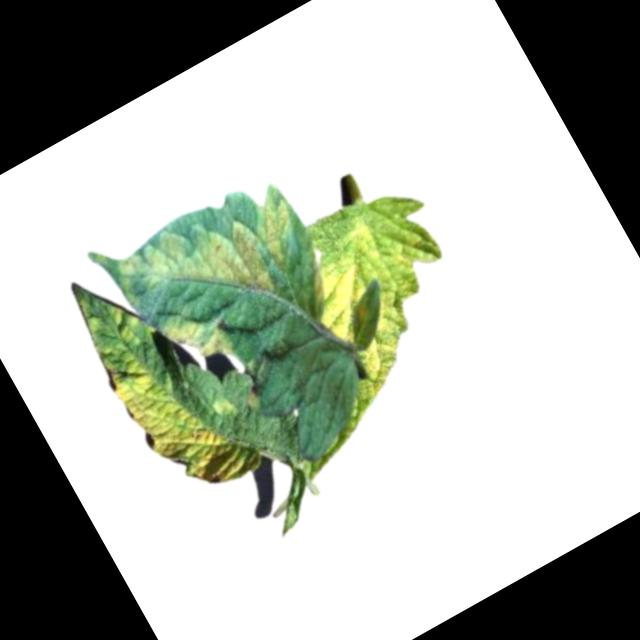Leaf_Mold: (55, 244, 261, 509), (285, 184, 503, 412), (105, 171, 317, 352), (158, 294, 249, 385)
